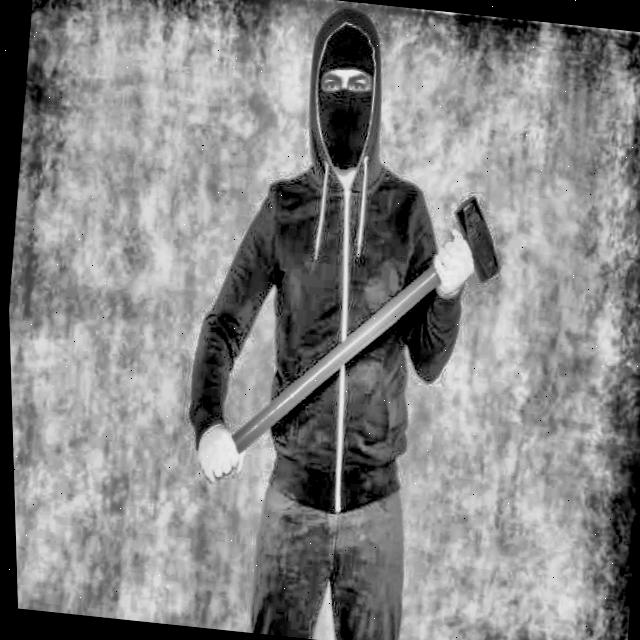robbery: (167, 5, 526, 640)
